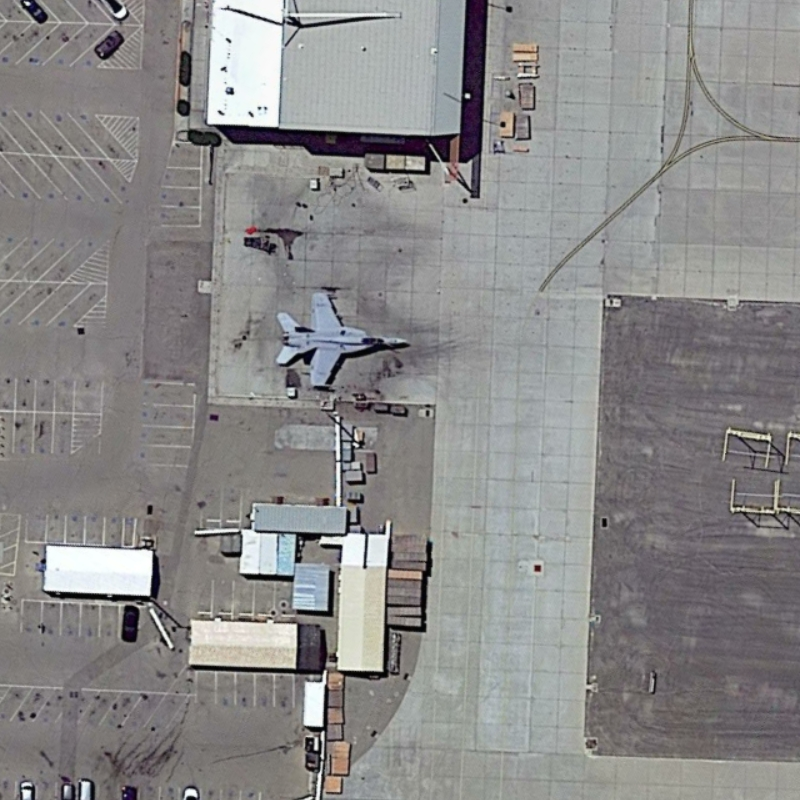A16: (268, 284, 414, 399)
